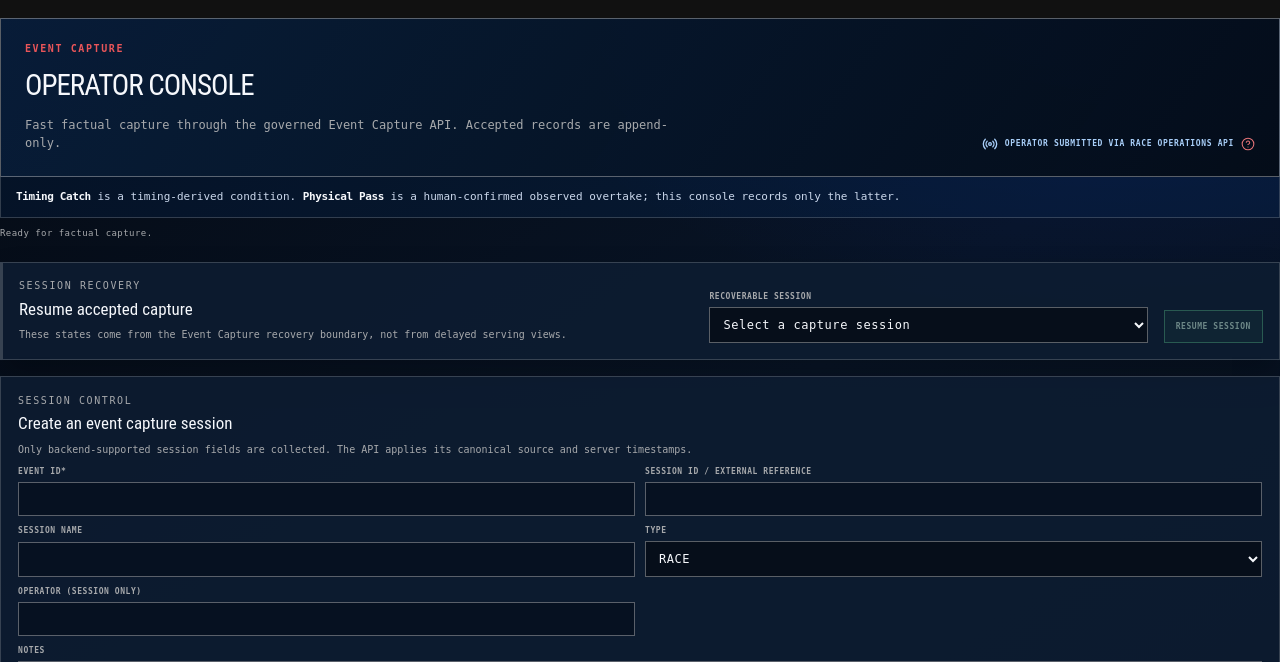
Test: EventCaptureConsole › views a recovered completed session but keeps factual capture locked
Expected: the heading "Resume accepted capture" is shown, [19, 298, 193, 318]
Select "Completed race · RACE · COMPLETED" in the dropdown named "Recoverable capture session": x=929, y=324 [709, 306, 1148, 342]
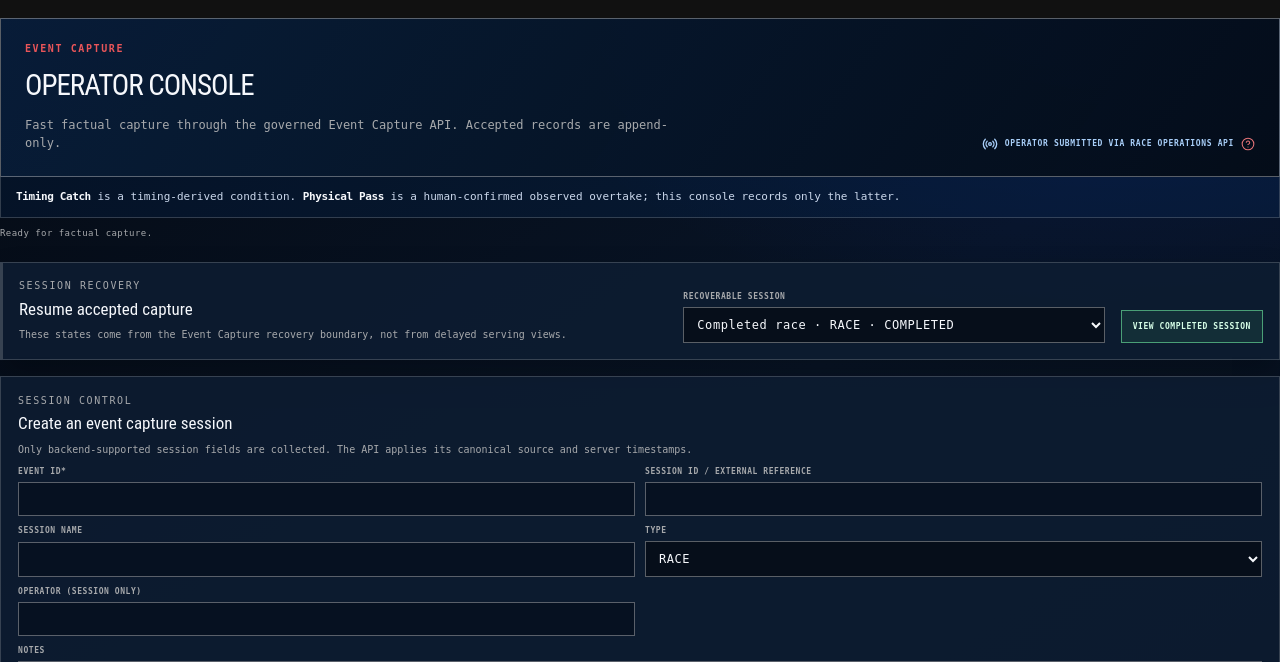
Click the button "VIEW COMPLETED SESSION": x=1192, y=326 [1121, 310, 1263, 342]
(page scrolled)
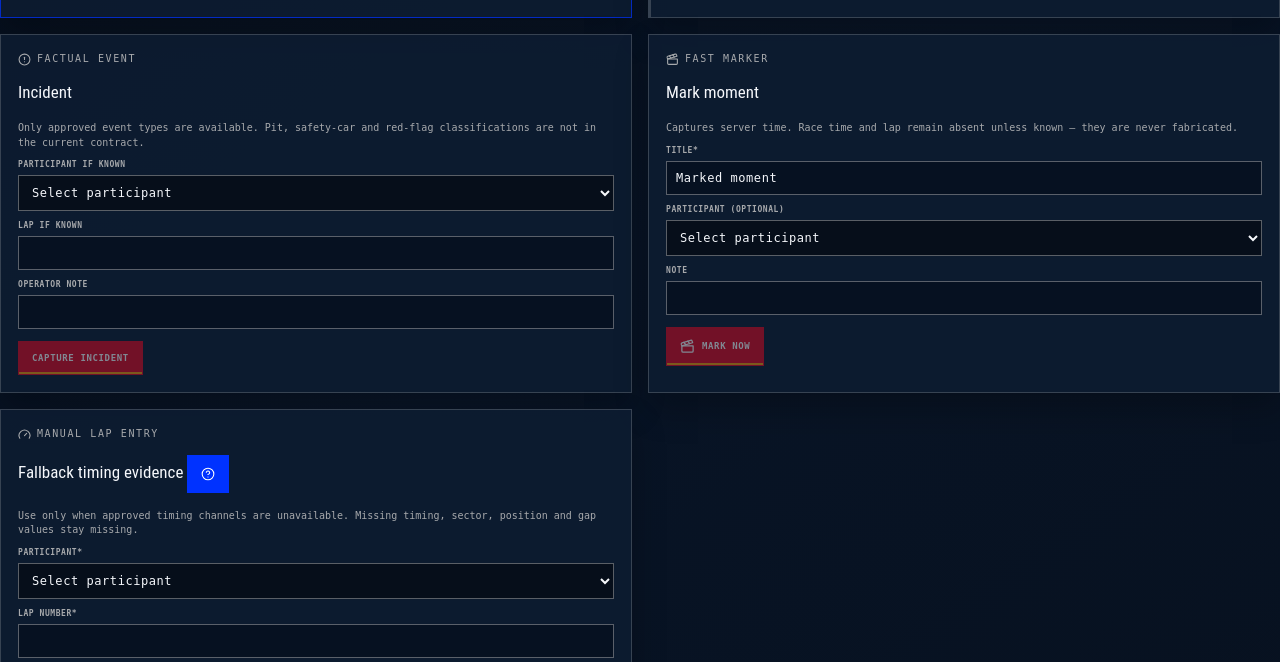
Expected: the button "CAPTURE INCIDENT" is disabled, [18, 341, 143, 375]
